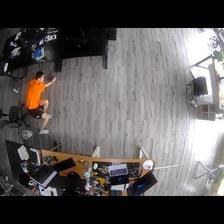fall: (24, 70, 58, 136)
